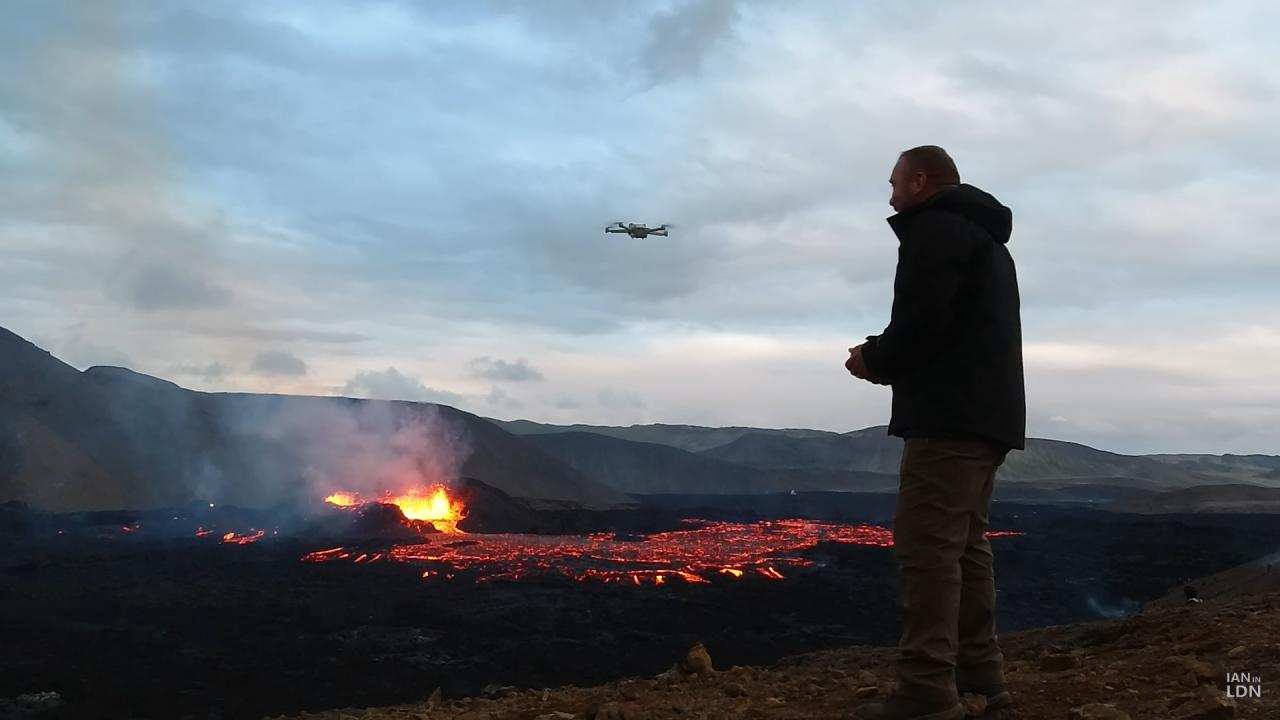Drone: (593, 209, 685, 251)
